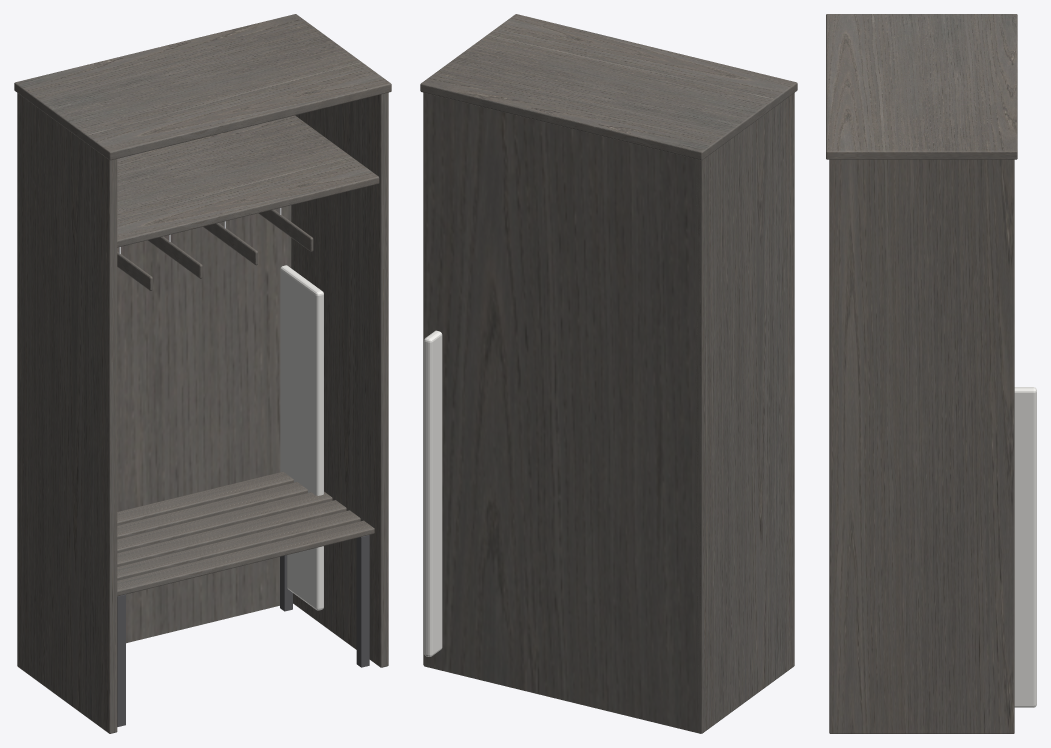
Rendered from hotel-closet.glb.
3 views of the same model, side by side, from view 1: azimuth 30°, elevation 25°; view 2: azimuth 150°, elevation 25°; view 3: azimuth 270°, elevation 25° (orthographic).
Parts seen in each view (by area): view 1: side, back, side.001, cap, shelf, iron_board, slat0, slat1, slat2, slat3, slat4, slat5 (+5 smaller); view 2: back, side, cap, iron_board, side.001; view 3: side.001, cap, iron_board.
Part boxes in pixels (x1,y1,x2,y2): side: (17,93,117,733); back: (117,205,291,643); side.001: (291,92,388,667); cap: (14,14,391,160); shelf: (117,115,379,247); iron_board: (280,265,323,610); slat0: (117,520,374,596); slat1: (117,510,360,580); slat2: (117,500,346,566); slat3: (117,491,332,552); slat4: (117,482,307,539); slat5: (117,471,293,525); back: (424,93,701,733); side: (695,93,794,733); cap: (420,14,797,160); iron_board: (424,330,442,656); side.001: (423,92,428,665); side.001: (829,159,1014,733); cap: (826,14,1017,159); iron_board: (1014,387,1036,707).
Bounding box in the file's own units: 1.02 × 2.01 × 0.66.
Materials: 5 (2 with a texture image).
